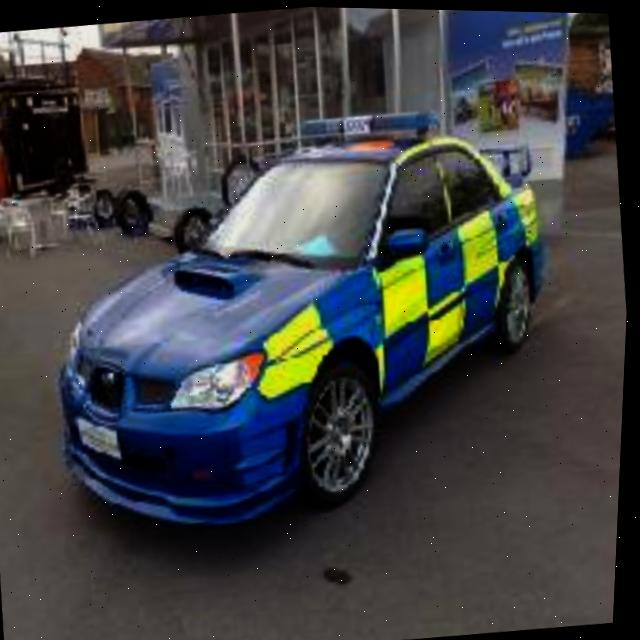emergency: (35, 78, 573, 542)
